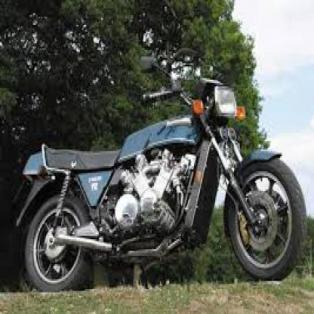Motocicleta: (6, 23, 308, 289)
